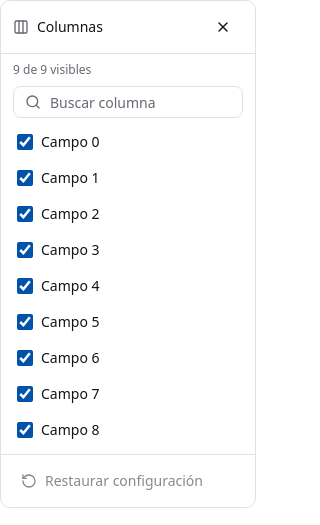
Test case: ColumnSettingsPanel › búsqueda de columnas › deja solo las columnas que coinciden
This screenshot has width=320, height=525.
Type "Campo 3" into the search field at point(128, 102), box [13,86,243,118]
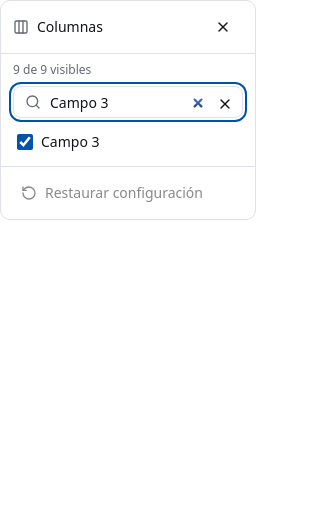
Expected: the checkbox labelled "Campo 3" is shown, [17,134,33,150]
Expected: the text "Campo 4" is gone
